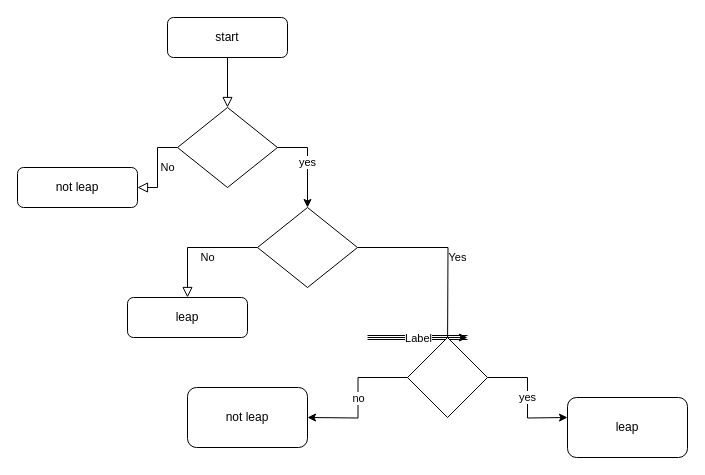
The diagram is 705 pixels wide and 475 high, and some of its shapes have lost their labels. Here are the shapes that lost their labels. From the top down, the centre of each, then its label:
the point at 227,147: evenly divisible by 4
the point at 307,247: evenly divisible by 100
the point at 447,377: evenly divisible by 400
